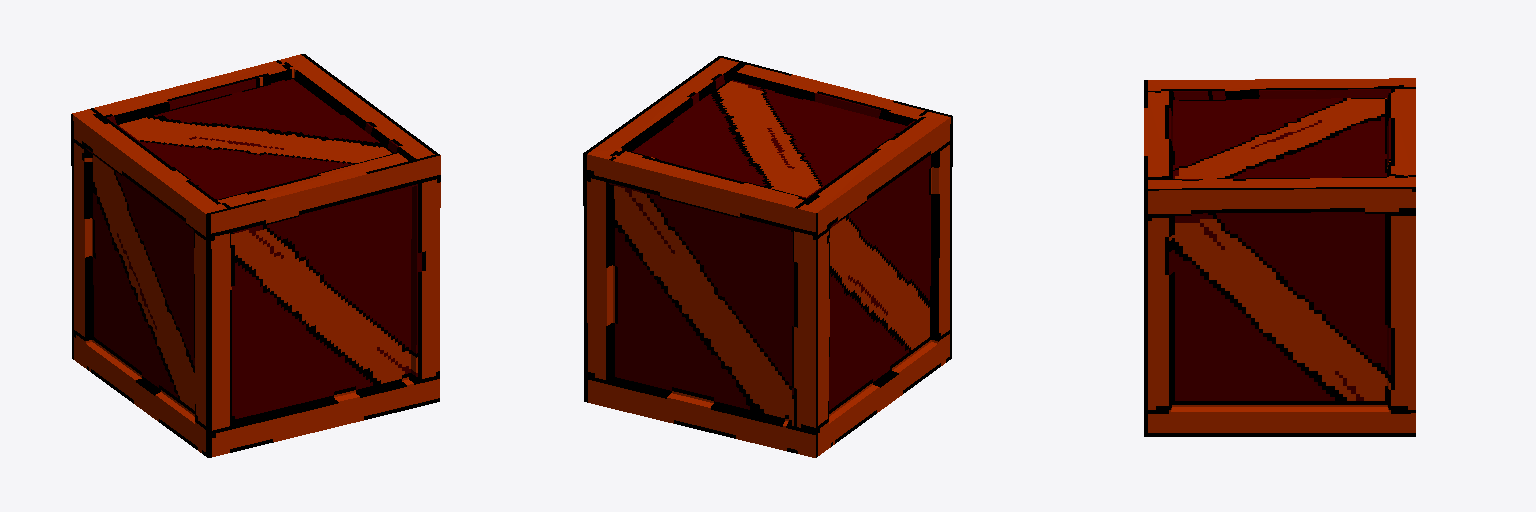
3 renders of one model, left to right at view 1: azimuth 30°, elevation 25°; view 2: azimuth 150°, elevation 25°; view 3: azimuth 270°, elevation 25°, orthographic.
Parts seen in each view (by area): view 1: Cube; view 2: Cube; view 3: Cube.
Boxes of the visible parts, <box> form: Cube: <box>71,54,440,457</box>; Cube: <box>583,56,952,457</box>; Cube: <box>1144,78,1415,436</box>.
Size of the model in its own units: 1.97 by 2.01 by 2.
Materials: 1 (1 with a texture image).